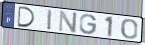1: (104, 16, 114, 38)
D: (17, 6, 37, 29)
G: (79, 14, 98, 36)
I: (47, 9, 53, 32)
N: (58, 9, 79, 34)
O: (120, 18, 139, 40)
